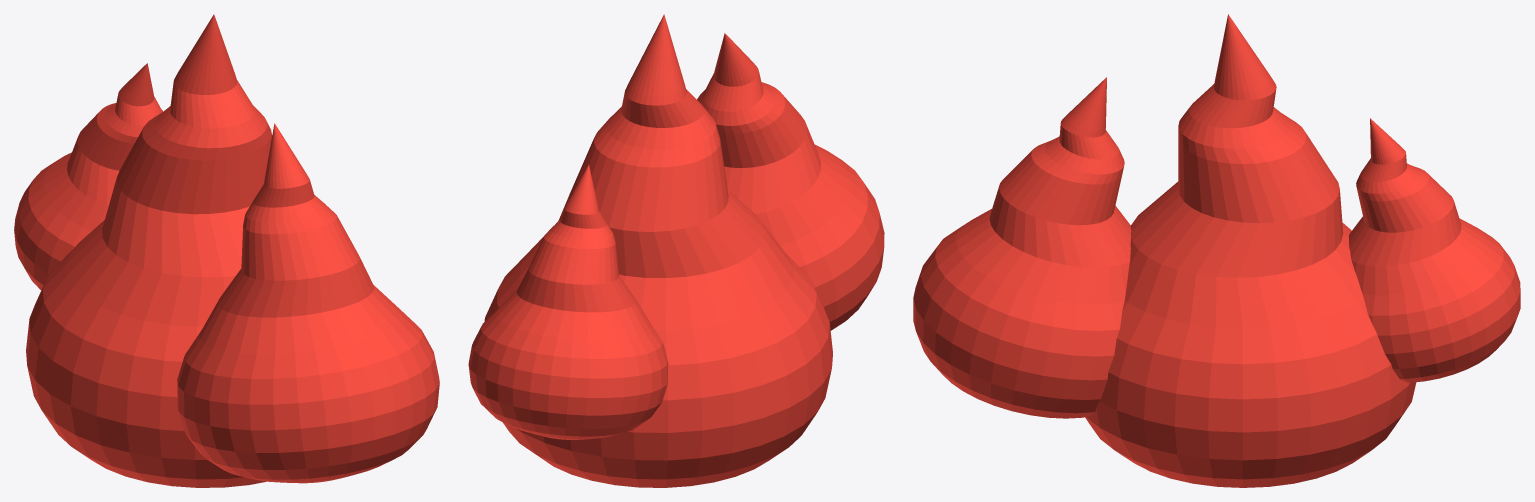
File: fir.gltf
3 renders of one model, left to right at view 1: azimuth 30°, elevation 25°; view 2: azimuth 150°, elevation 25°; view 3: azimuth 270°, elevation 25°, orthographic. The views are drawn at different scales.
Visible parts, largest first — view 1: Сфера; view 2: Сфера; view 3: Сфера.
Boxes of the visible parts, x1,y1,x2,y2 form: Сфера: (14, 14, 439, 487); Сфера: (468, 14, 884, 487); Сфера: (913, 14, 1520, 487).
Bounding box in the file's own units: 2.46 × 3.42 × 4.18.
